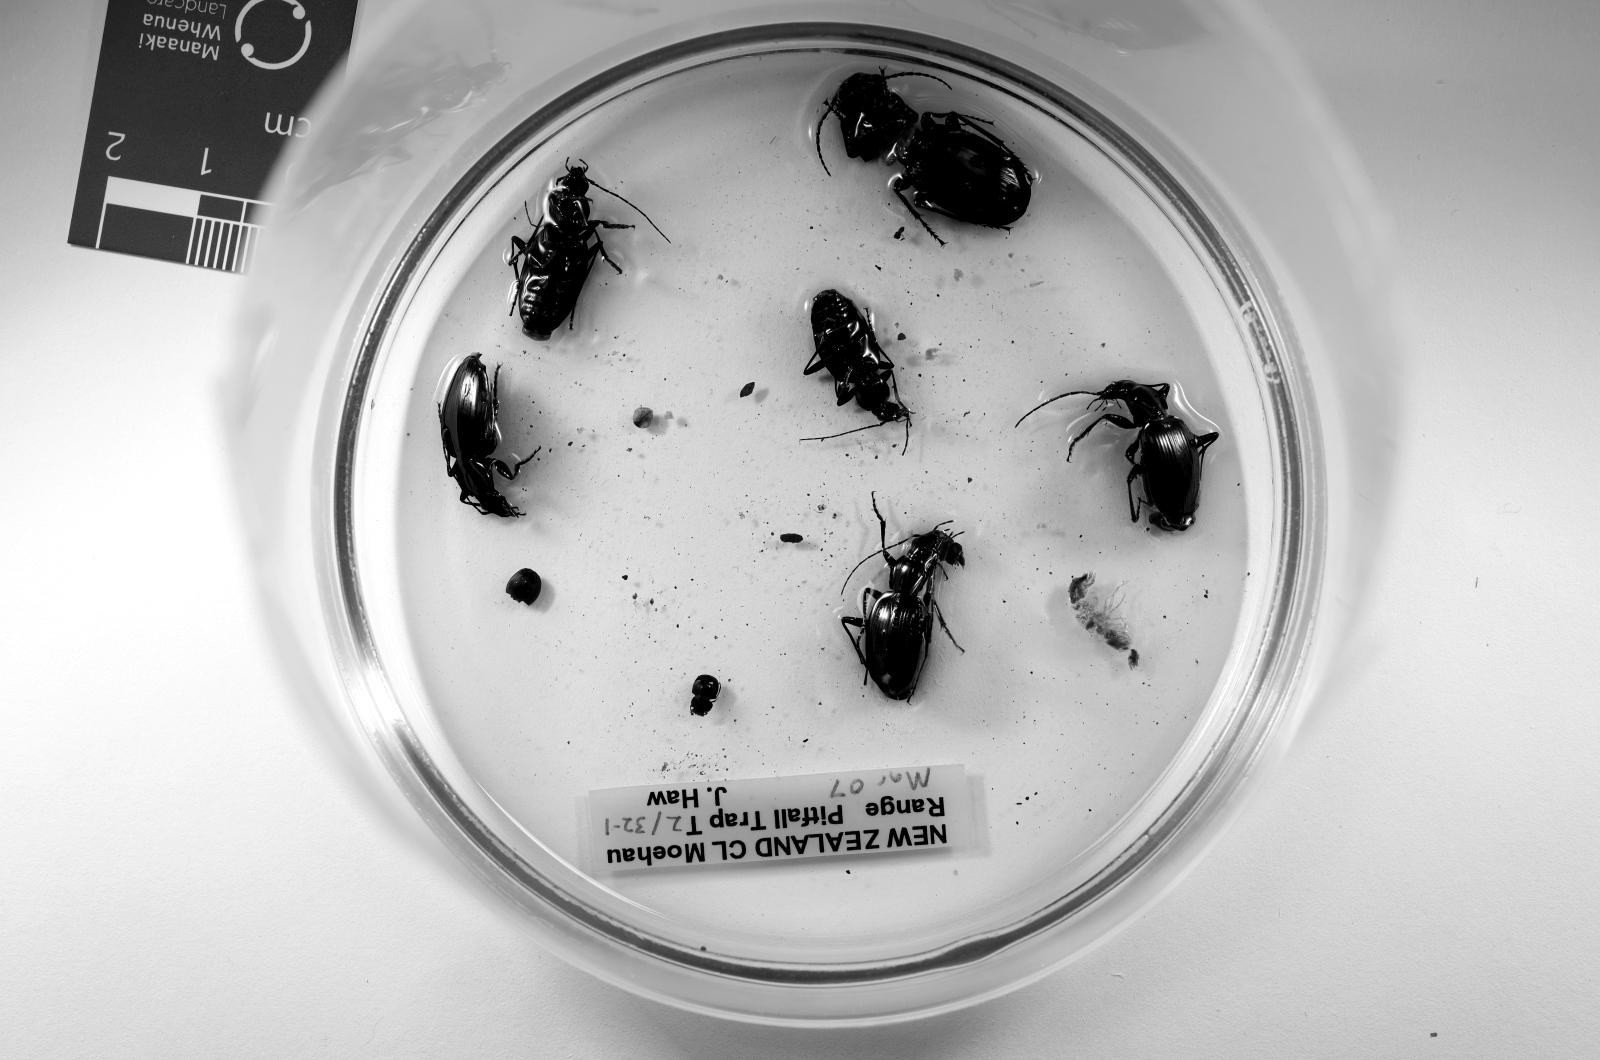amphipoda: (1069, 571, 1132, 652)
carabidae: (816, 69, 1031, 230), (506, 161, 631, 342), (1069, 382, 1219, 531), (841, 493, 940, 702), (438, 354, 538, 518), (803, 289, 909, 422)
coleoptera: (691, 674, 719, 717)
